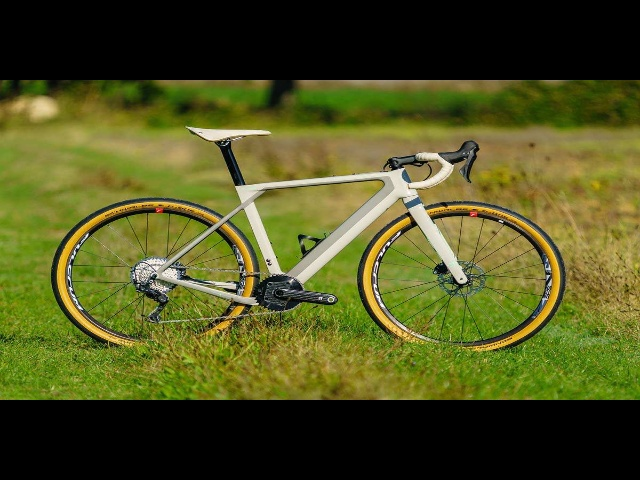bike: (50, 122, 567, 367)
